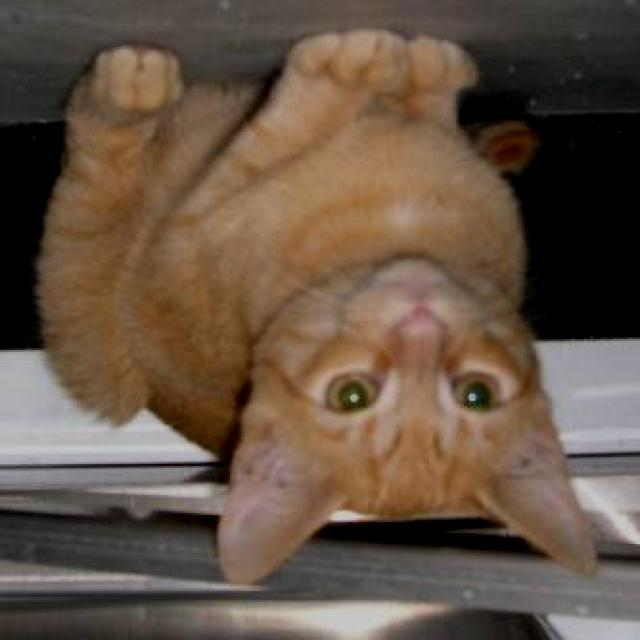Kucing: (28, 28, 598, 604)
